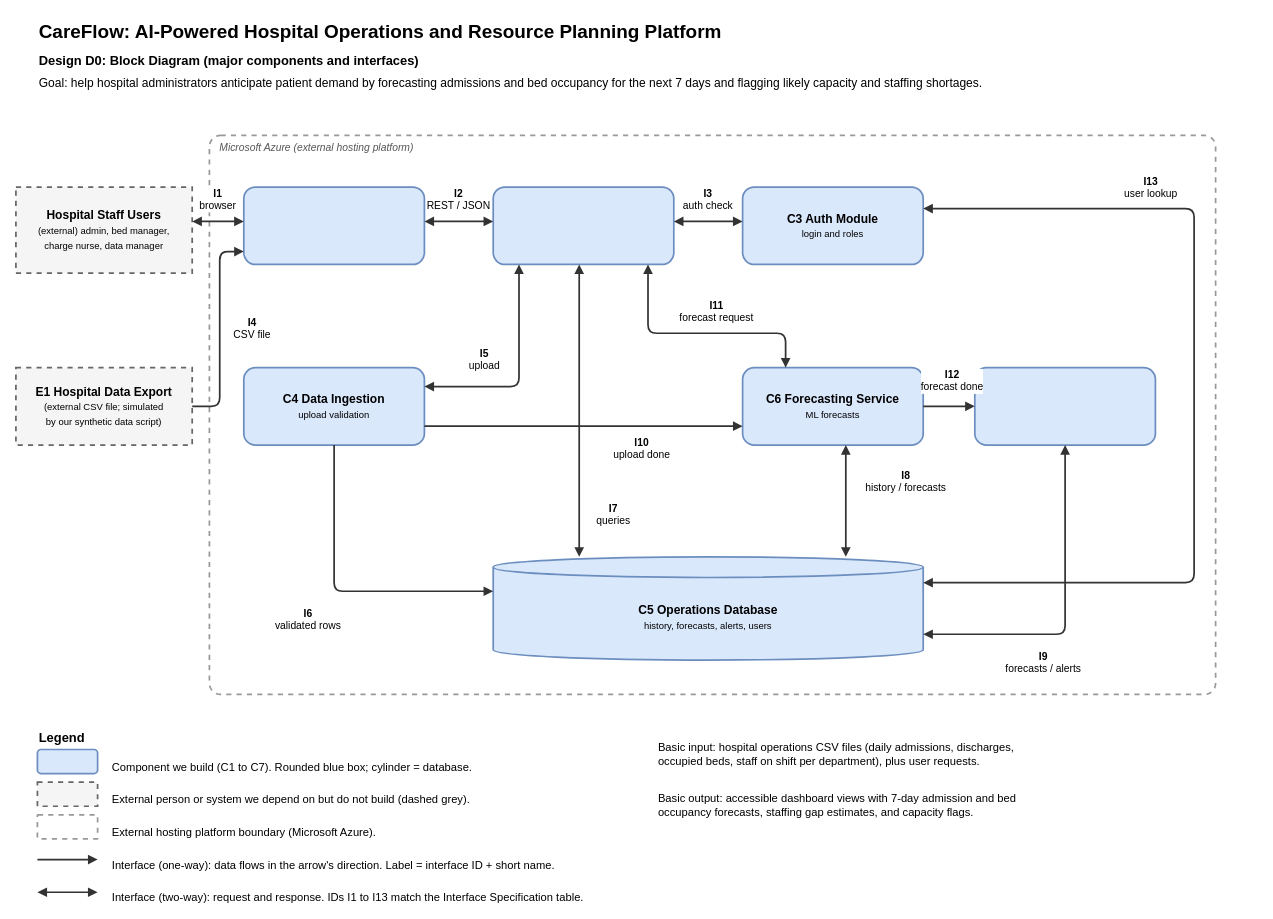
Some shapes in this 1273 by 919 pixel diagram are drawn without their labels. Each missing label, with the box of its shape:
C1 Web Dashboard user interface: (243, 186, 425, 265)
C2 Backend API request handling: (492, 186, 674, 265)
C7 Planning & Alerts staffing gaps, capacity flags: (974, 366, 1156, 445)
